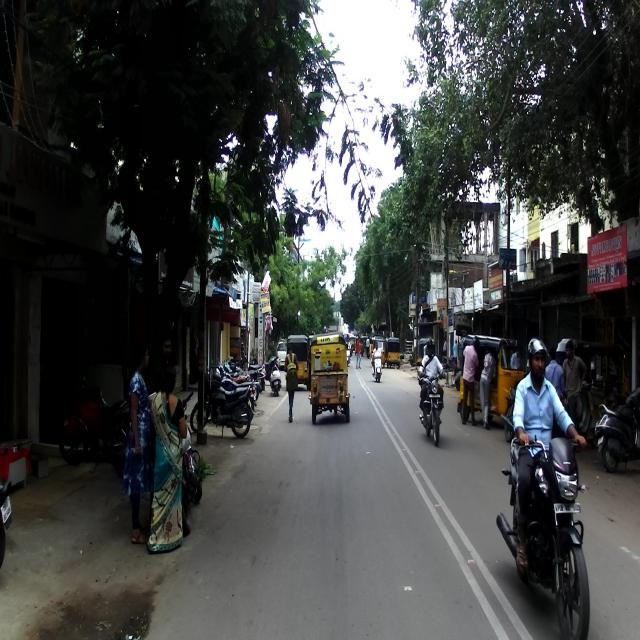autorickshaw: (554, 338, 630, 440), (456, 332, 527, 422)
motorcycle: (496, 435, 594, 639), (190, 371, 258, 438), (415, 359, 448, 446)
scooter: (594, 387, 639, 470), (268, 357, 282, 395), (370, 351, 382, 381)
